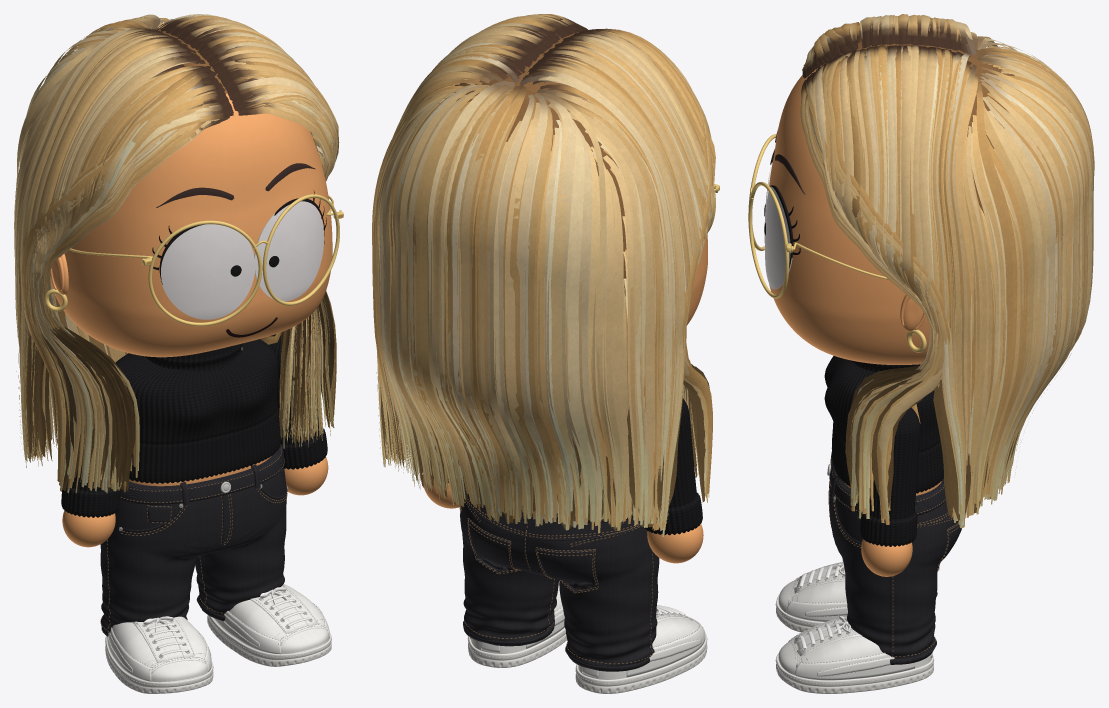
The model's file is ioana.glb.
3 views of the same model, side by side, from view 1: azimuth 30°, elevation 25°; view 2: azimuth 150°, elevation 25°; view 3: azimuth 270°, elevation 25° (orthographic). The views are drawn at different scales.
Parts seen in each view (by area): view 1: Head_Hair, Head_Skin, Body_BlackDenim, Body_RibKnit, Head_EyeWhite, Body_ShoeLeather, Body_BlackDenimDetail, Head_Gold, Body_ShoeSole, Arm_R_RibKnit, Arm_L_RibKnit, Arm_L_Skin (+6 smaller); view 2: Head_Hair, Body_BlackDenim, Body_BlackDenimDetail, Body_ShoeLeather, Body_ShoeSole, Arm_L_RibKnit, Body_Thread, Arm_L_Skin, Head_Skin; view 3: Head_Hair, Head_Skin, Body_BlackDenim, Body_ShoeLeather, Body_RibKnit, Arm_R_RibKnit, Body_ShoeSole, Body_BlackDenimDetail, Head_Gold, Head_EyeWhite, Arm_R_Skin, Body_ShoeLace (+2 smaller).
Part boxes in pixels (x1=…): Head_Hair: x1=14, y1=14, x2=339, y2=493; Head_Skin: x1=50, y1=93, x2=332, y2=357; Body_BlackDenim: x1=100, y1=449, x2=286, y2=631; Body_RibKnit: x1=115, y1=339, x2=280, y2=483; Head_EyeWhite: x1=160, y1=201, x2=323, y2=319; Body_ShoeLeather: x1=107, y1=584, x2=329, y2=682; Body_BlackDenimDetail: x1=101, y1=444, x2=287, y2=636; Head_Gold: x1=44, y1=194, x2=343, y2=326; Body_ShoeSole: x1=105, y1=615, x2=331, y2=693; Arm_R_RibKnit: x1=268, y1=334, x2=327, y2=469; Arm_L_RibKnit: x1=61, y1=465, x2=120, y2=517; Arm_L_Skin: x1=62, y1=510, x2=115, y2=547; Head_Hair: x1=372, y1=14, x2=715, y2=536; Body_BlackDenim: x1=460, y1=494, x2=659, y2=666; Body_BlackDenimDetail: x1=463, y1=502, x2=652, y2=671; Body_ShoeLeather: x1=470, y1=584, x2=705, y2=679; Body_ShoeSole: x1=468, y1=627, x2=707, y2=693; Arm_L_RibKnit: x1=645, y1=398, x2=702, y2=535; Body_Thread: x1=464, y1=499, x2=654, y2=664; Arm_L_Skin: x1=647, y1=524, x2=703, y2=563; Head_Skin: x1=686, y1=233, x2=707, y2=325; Head_Hair: x1=800, y1=14, x2=1094, y2=528; Head_Skin: x1=769, y1=64, x2=930, y2=364; Body_BlackDenim: x1=829, y1=472, x2=958, y2=658; Body_ShoeLeather: x1=778, y1=562, x2=932, y2=680; Body_RibKnit: x1=824, y1=356, x2=943, y2=493; Arm_R_RibKnit: x1=860, y1=407, x2=920, y2=546; Body_ShoeSole: x1=776, y1=594, x2=933, y2=693; Body_BlackDenimDetail: x1=828, y1=452, x2=961, y2=664; Head_Gold: x1=748, y1=134, x2=926, y2=352; Head_EyeWhite: x1=764, y1=162, x2=792, y2=289; Arm_R_Skin: x1=861, y1=539, x2=912, y2=576; Body_ShoeLace: x1=799, y1=559, x2=850, y2=649.
Size of the model in its own units: 0.7974 by 1.57 by 0.8073.
Materials: 20 (8 with a texture image).
